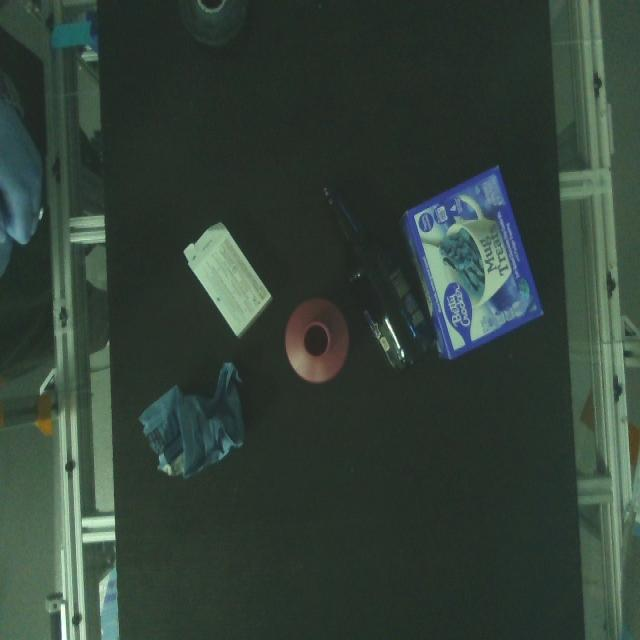non-paper: (312, 163, 435, 377), (283, 291, 352, 388), (165, 0, 254, 48)
paper: (395, 156, 550, 368), (140, 358, 262, 495), (181, 214, 275, 344)
